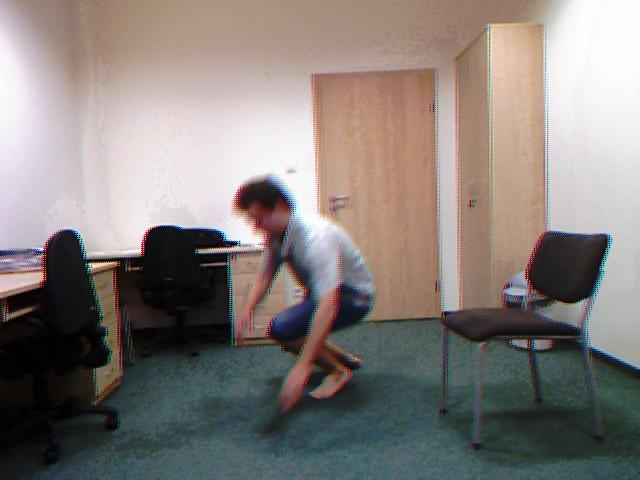near-fall: (226, 172, 378, 409)
